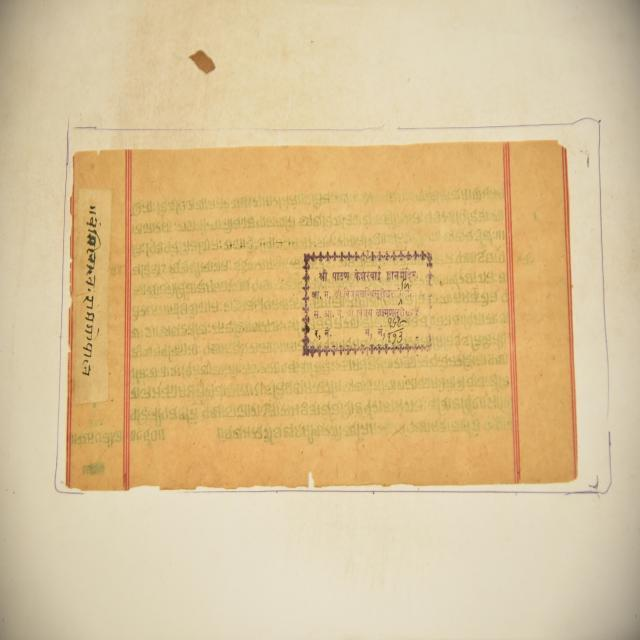text_paragraph: (66, 141, 576, 485)
